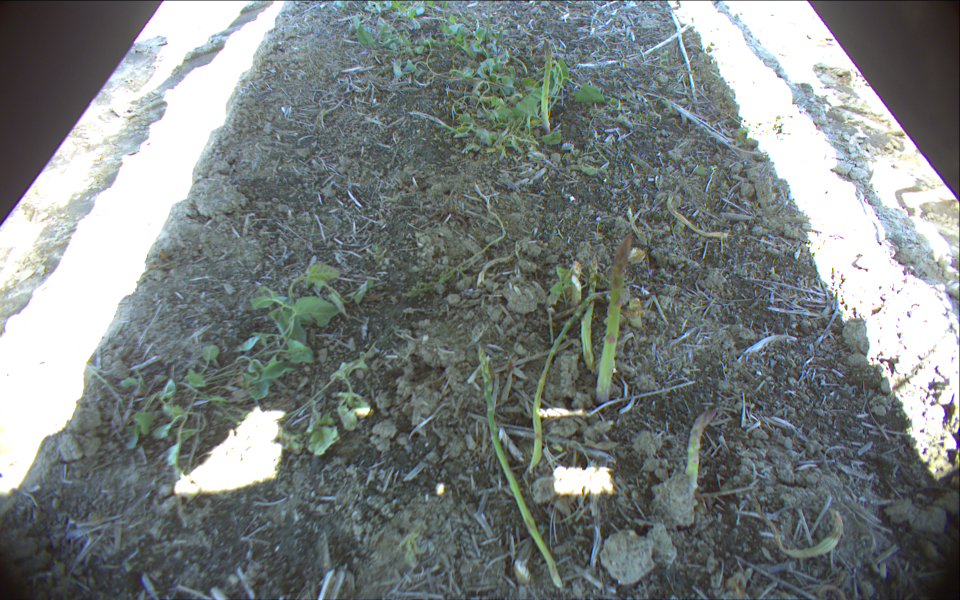aspa: (593, 229, 636, 408), (681, 406, 719, 492), (538, 37, 555, 133)
